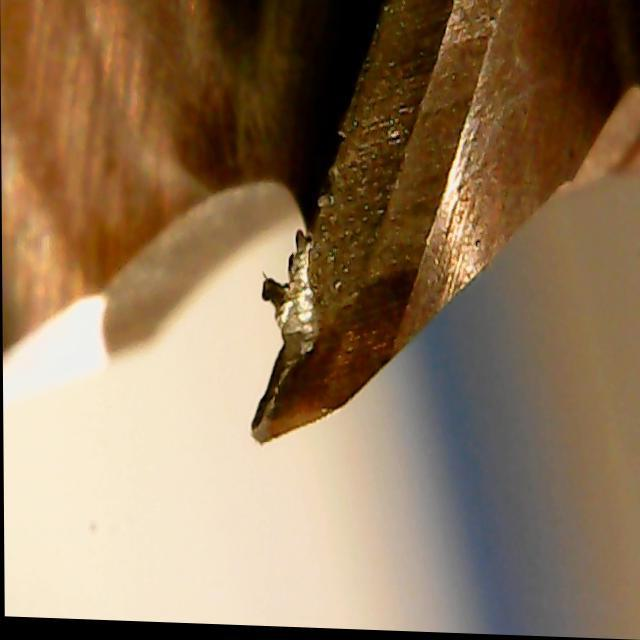Tool-wear-class-2: (241, 210, 432, 456)
